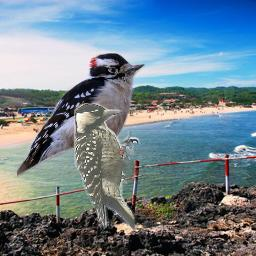Woodpecker: (17, 53, 146, 178), (74, 103, 141, 233)
